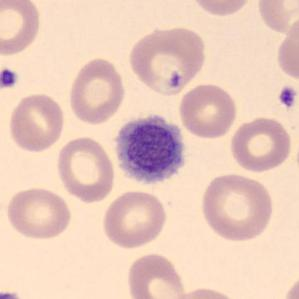Lymphocyte: (111, 108, 192, 188)
Platelets: (276, 85, 298, 110), (0, 66, 20, 90), (169, 68, 188, 89), (0, 289, 21, 299)
RBC: (125, 24, 208, 97), (198, 170, 276, 244), (54, 134, 117, 204), (66, 55, 127, 126), (100, 188, 168, 250), (227, 114, 294, 174), (4, 184, 73, 242), (6, 91, 66, 154), (177, 81, 239, 140), (124, 251, 188, 299), (0, 0, 43, 57), (255, 0, 298, 36), (186, 0, 254, 17), (167, 285, 241, 299), (280, 271, 298, 299)
